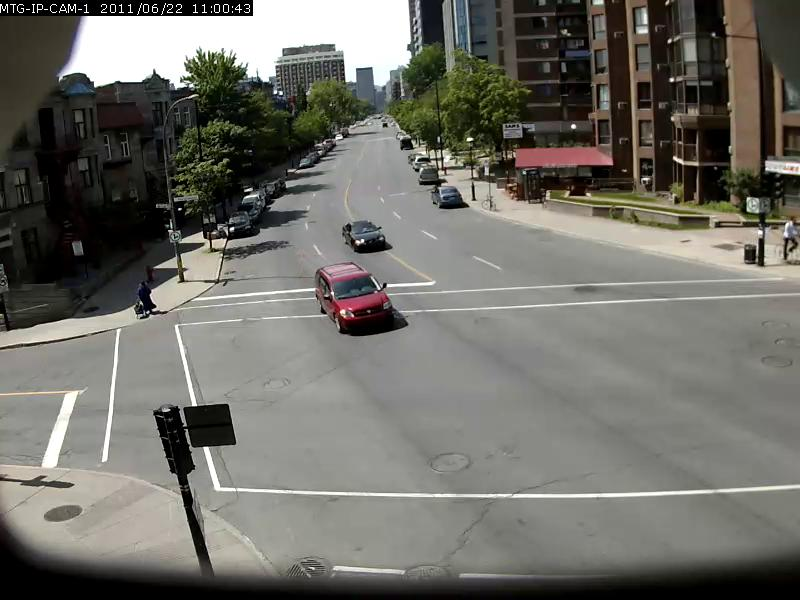car: (315, 261, 394, 335), (342, 220, 387, 253)
